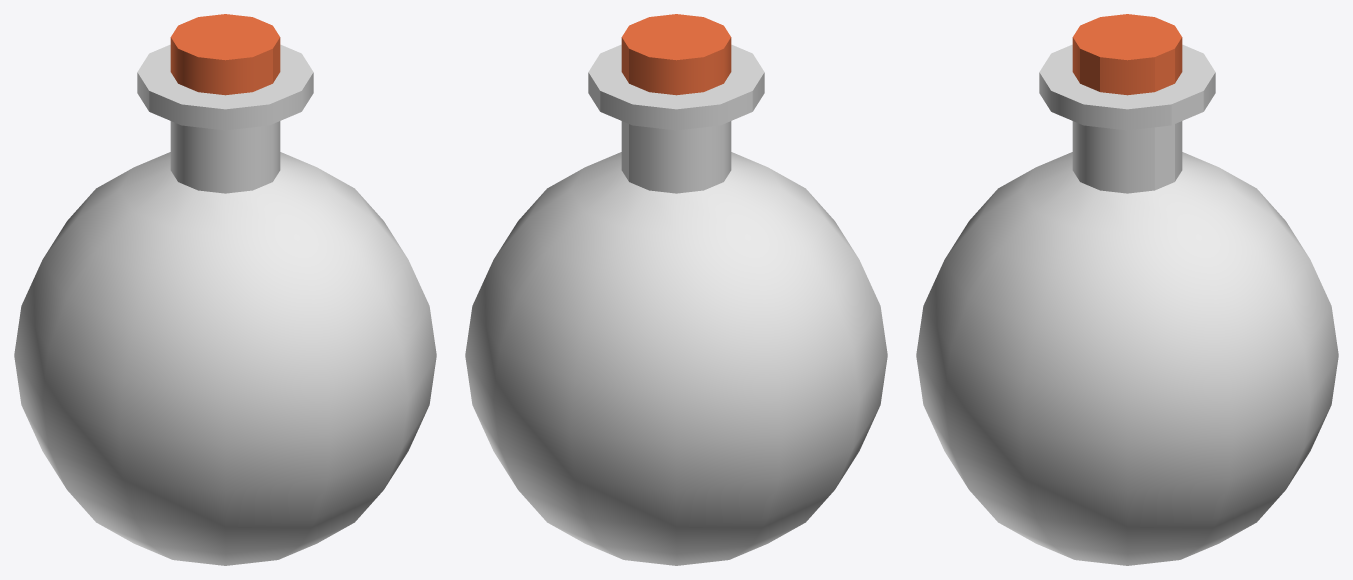
Rendered from ColorBottle.fbx.
3 views of the same model, side by side, from view 1: azimuth 30°, elevation 25°; view 2: azimuth 150°, elevation 25°; view 3: azimuth 270°, elevation 25° (orthographic).
Visible parts, largest first — view 1: Glass; view 2: Glass; view 3: Glass.
Part boxes in pixels (x1,y1,x2,y2): Glass: [14, 14, 436, 565]; Glass: [465, 14, 887, 565]; Glass: [916, 14, 1338, 565].
Bounding box in the file's own units: 200 × 266 × 200.
